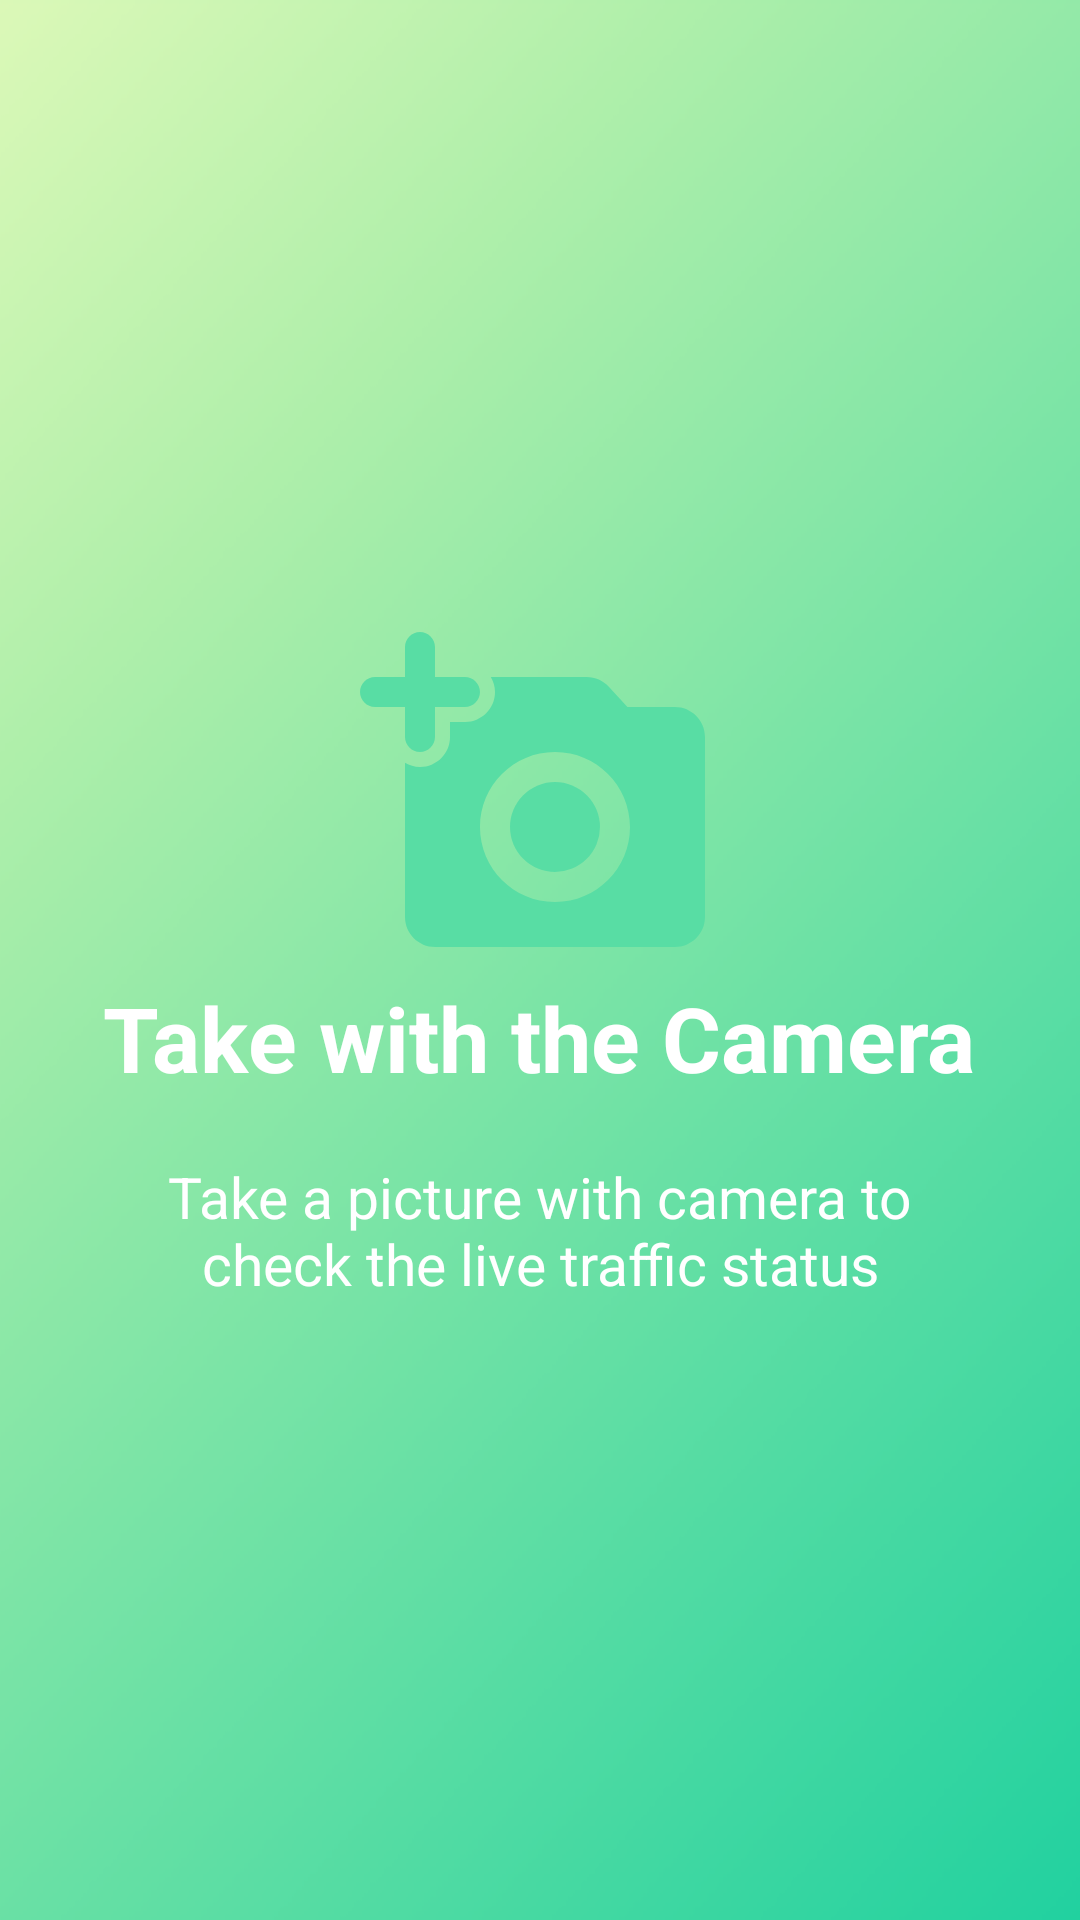

Locate icon controls on the screen. Image size 1080 × 1920, boxes as (x1, y1, x2, y2).
add photo: (360, 632, 720, 977)
